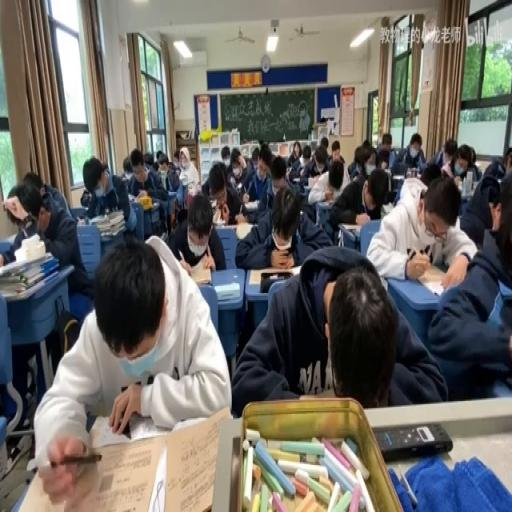calculator: (90, 411, 164, 445), (414, 262, 450, 294), (246, 266, 298, 287), (182, 257, 212, 286), (214, 282, 240, 300), (128, 195, 153, 212), (98, 220, 125, 234), (234, 222, 254, 240), (497, 279, 512, 300), (314, 199, 333, 213), (294, 181, 310, 196), (211, 206, 224, 224), (338, 222, 360, 232), (218, 220, 238, 230), (380, 200, 394, 214), (88, 213, 104, 225), (242, 199, 258, 209), (306, 175, 316, 188), (76, 214, 88, 224), (393, 172, 405, 181), (150, 198, 158, 206), (236, 180, 242, 190), (210, 199, 216, 208), (292, 178, 302, 183)
paper: (36, 232, 232, 496), (232, 245, 440, 415), (368, 173, 477, 293), (3, 175, 94, 307), (234, 182, 326, 272), (84, 155, 139, 240), (168, 189, 222, 273), (330, 164, 388, 234), (458, 171, 496, 246), (140, 151, 174, 230), (392, 131, 425, 173), (295, 142, 320, 182), (178, 146, 199, 192), (226, 148, 248, 189), (19, 194, 44, 230), (458, 144, 481, 182), (256, 144, 274, 179), (418, 162, 442, 188), (270, 156, 286, 195), (401, 176, 426, 199), (439, 138, 458, 168), (208, 170, 225, 200), (352, 148, 370, 176), (328, 136, 344, 164), (22, 171, 42, 192), (330, 161, 342, 189), (376, 148, 390, 169), (142, 152, 154, 174), (501, 145, 510, 174), (288, 141, 300, 162), (122, 154, 133, 176), (250, 148, 260, 171), (381, 134, 392, 154), (80, 189, 92, 206), (173, 148, 183, 166), (158, 162, 168, 175), (319, 136, 328, 150), (361, 138, 370, 151), (154, 150, 162, 164), (302, 155, 310, 165), (314, 161, 320, 169)
person: (374, 422, 451, 461)
